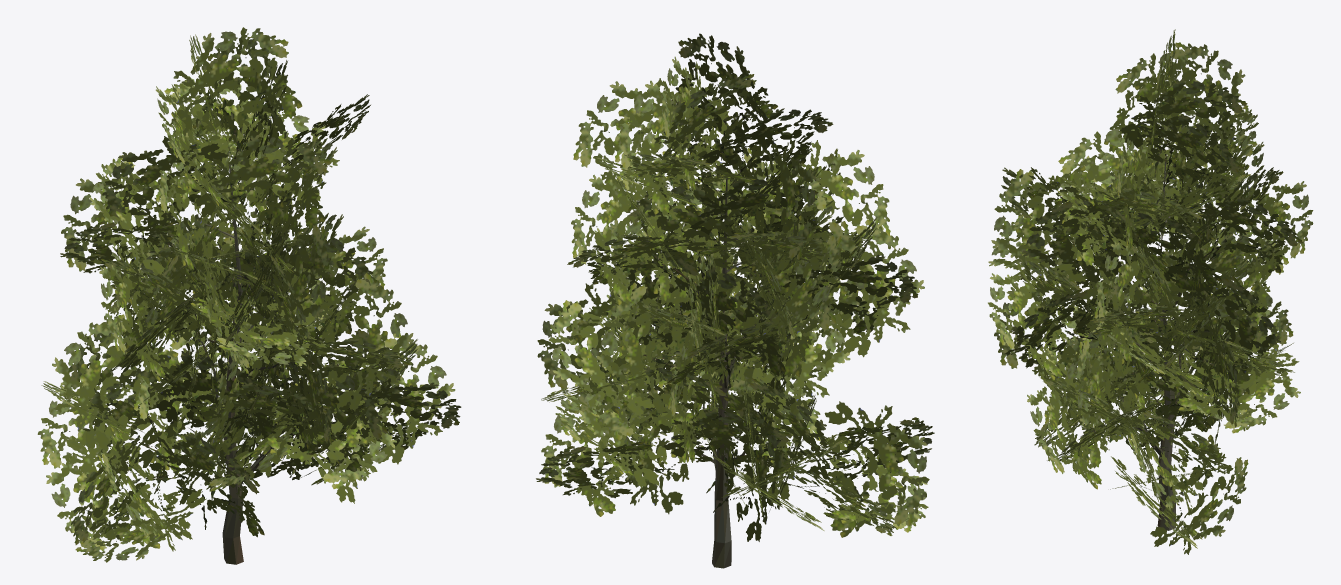
Rendered from laubbaum_05.glb.
3 views of the same model, side by side, from view 1: azimuth 30°, elevation 25°; view 2: azimuth 150°, elevation 25°; view 3: azimuth 270°, elevation 25° (orthographic). The views are drawn at different scales.
Parts seen in each view (by area): view 1: laub, rinde; view 2: laub, rinde; view 3: laub, rinde.
Part boxes in pixels (left/top/right/bottom): laub: left=37, top=27, right=461, bottom=562; rinde: left=189, top=162, right=295, bottom=564; laub: left=536, top=33, right=934, bottom=541; rinde: left=668, top=167, right=779, bottom=568; laub: left=988, top=29, right=1313, bottom=554; rinde: left=1092, top=154, right=1215, bottom=530.
Bounding box in the file's own units: 5.85 × 7.8 × 5.03.
Materials: 2 (1 with a texture image).
